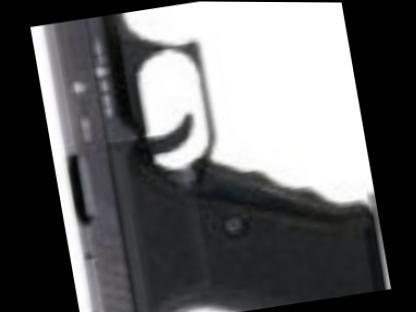pistol: (29, 0, 389, 311)
